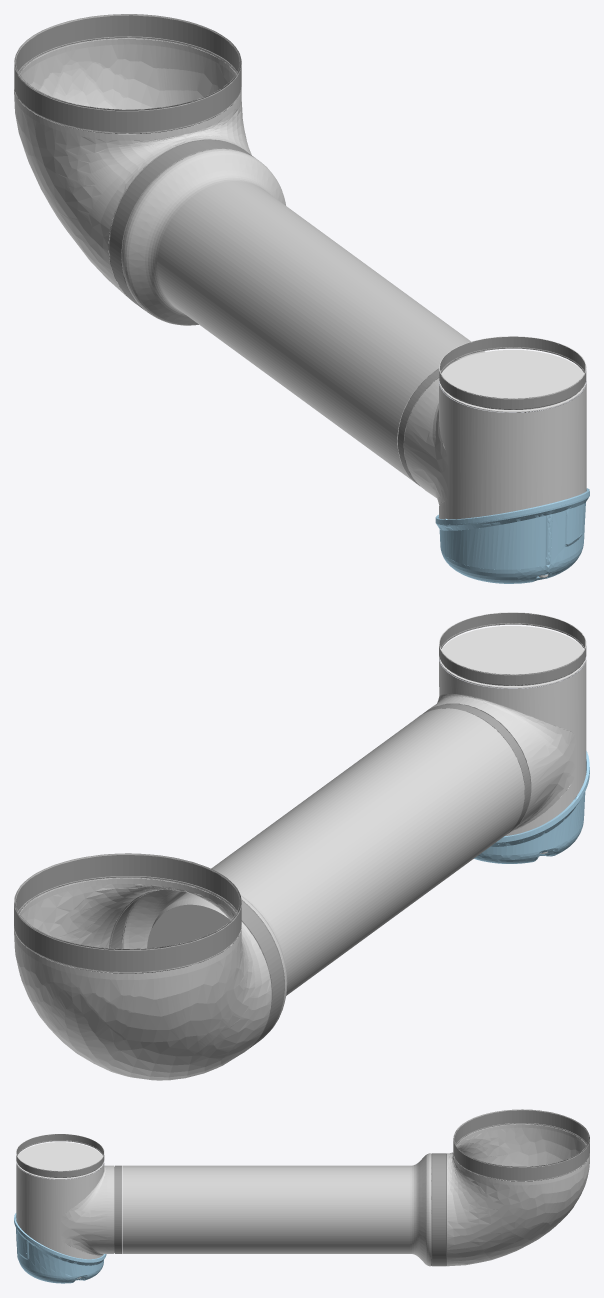
The model's file is forearm_link.glb.
3 views of the same model, one above another, from view 1: azimuth 30°, elevation 25°; view 2: azimuth 150°, elevation 25°; view 3: azimuth 270°, elevation 25° (orthographic). The views are drawn at different scales.
Visible parts, largest first — view 1: Node7, Node6, Node11, Node10, Node1, Node3, Node4; view 2: Node7, Node6, Node11, Node10, Node1, Node4, Node3; view 3: Node7, Node6, Node11, Node10, Node3, Node4, Node1.
Boxes of the visible parts, bbox=[...] form: Node7: bbox=[122, 149, 520, 481]; Node6: bbox=[14, 38, 586, 519]; Node11: bbox=[14, 14, 586, 485]; Node10: bbox=[16, 15, 585, 577]; Node1: bbox=[439, 491, 589, 579]; Node3: bbox=[436, 488, 589, 581]; Node4: bbox=[435, 490, 586, 583]; Node7: bbox=[122, 708, 524, 1032]; Node6: bbox=[14, 612, 586, 1080]; Node11: bbox=[14, 613, 586, 1049]; Node10: bbox=[16, 626, 585, 949]; Node1: bbox=[474, 764, 589, 860]; Node4: bbox=[491, 795, 583, 861]; Node3: bbox=[477, 751, 589, 863]; Node7: bbox=[122, 1153, 431, 1266]; Node6: bbox=[16, 1124, 589, 1266]; Node11: bbox=[16, 1109, 589, 1266]; Node10: bbox=[16, 1110, 588, 1278]; Node3: bbox=[14, 1213, 103, 1283]; Node4: bbox=[17, 1233, 106, 1282]; Node1: bbox=[14, 1218, 103, 1279].
Bounding box in the file's own units: 0.116 × 0.1231 × 0.4896.
